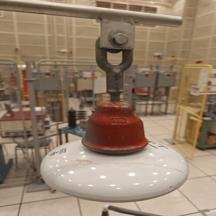insulator: (34, 94, 193, 205)
